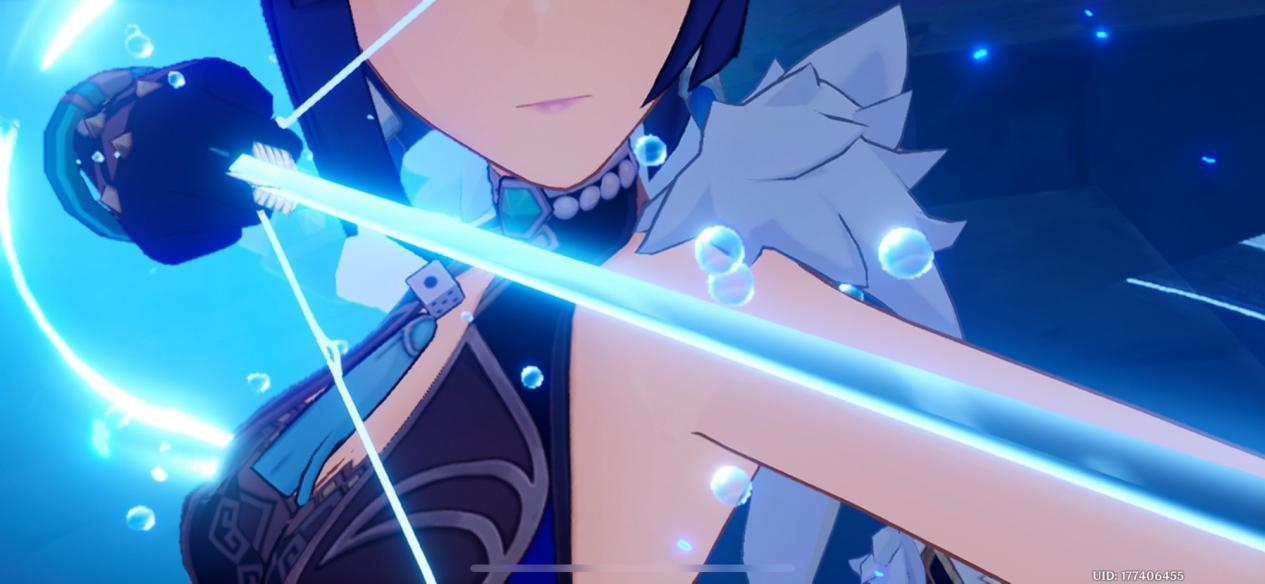夜兰: (46, 1, 1265, 584)
